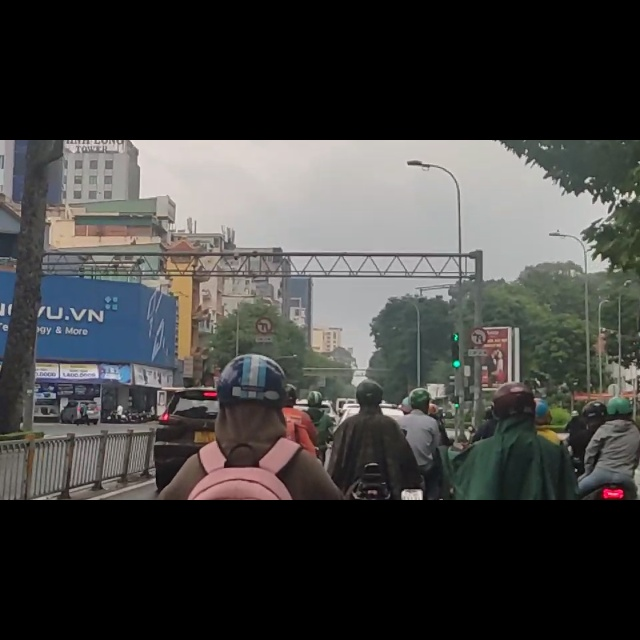bien_cam: (468, 334, 491, 371), (256, 314, 275, 346)
